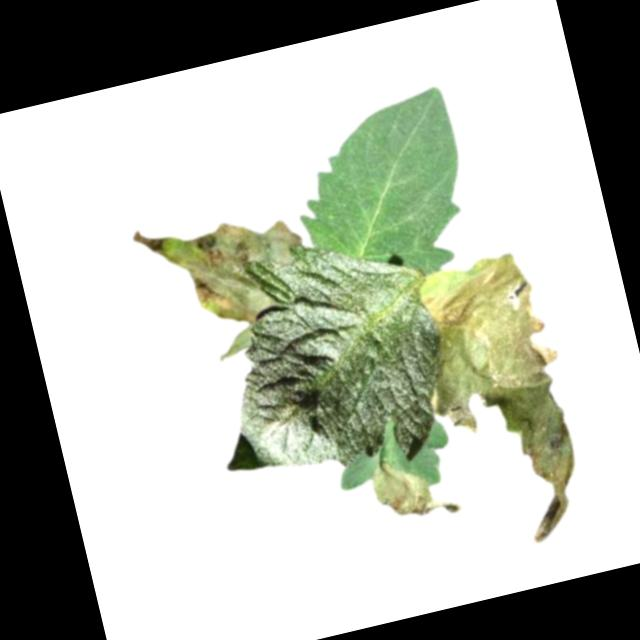Late_blight: (409, 246, 602, 560), (132, 195, 318, 347), (365, 443, 466, 531)
healthy: (180, 218, 464, 500), (278, 85, 484, 299)
